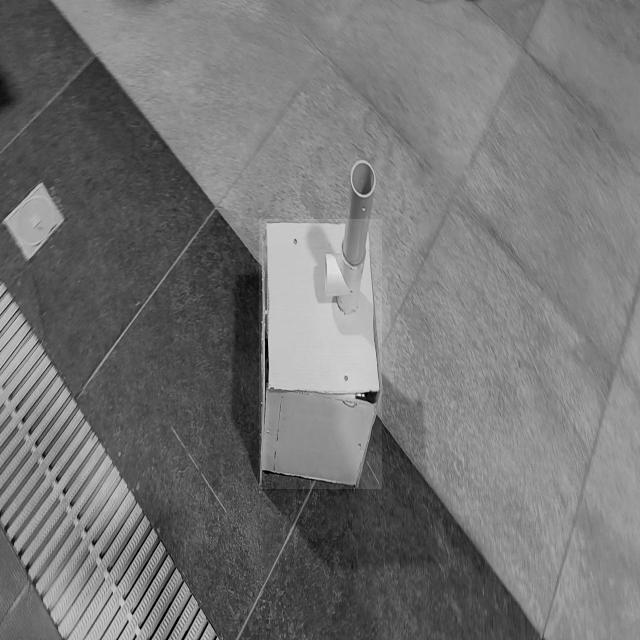Cube: (259, 220, 382, 490)
